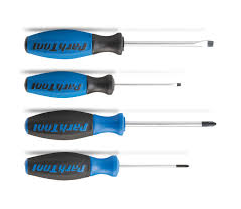Screwdriver: (19, 24, 233, 66), (22, 108, 223, 145), (18, 68, 208, 102), (21, 150, 200, 184)
